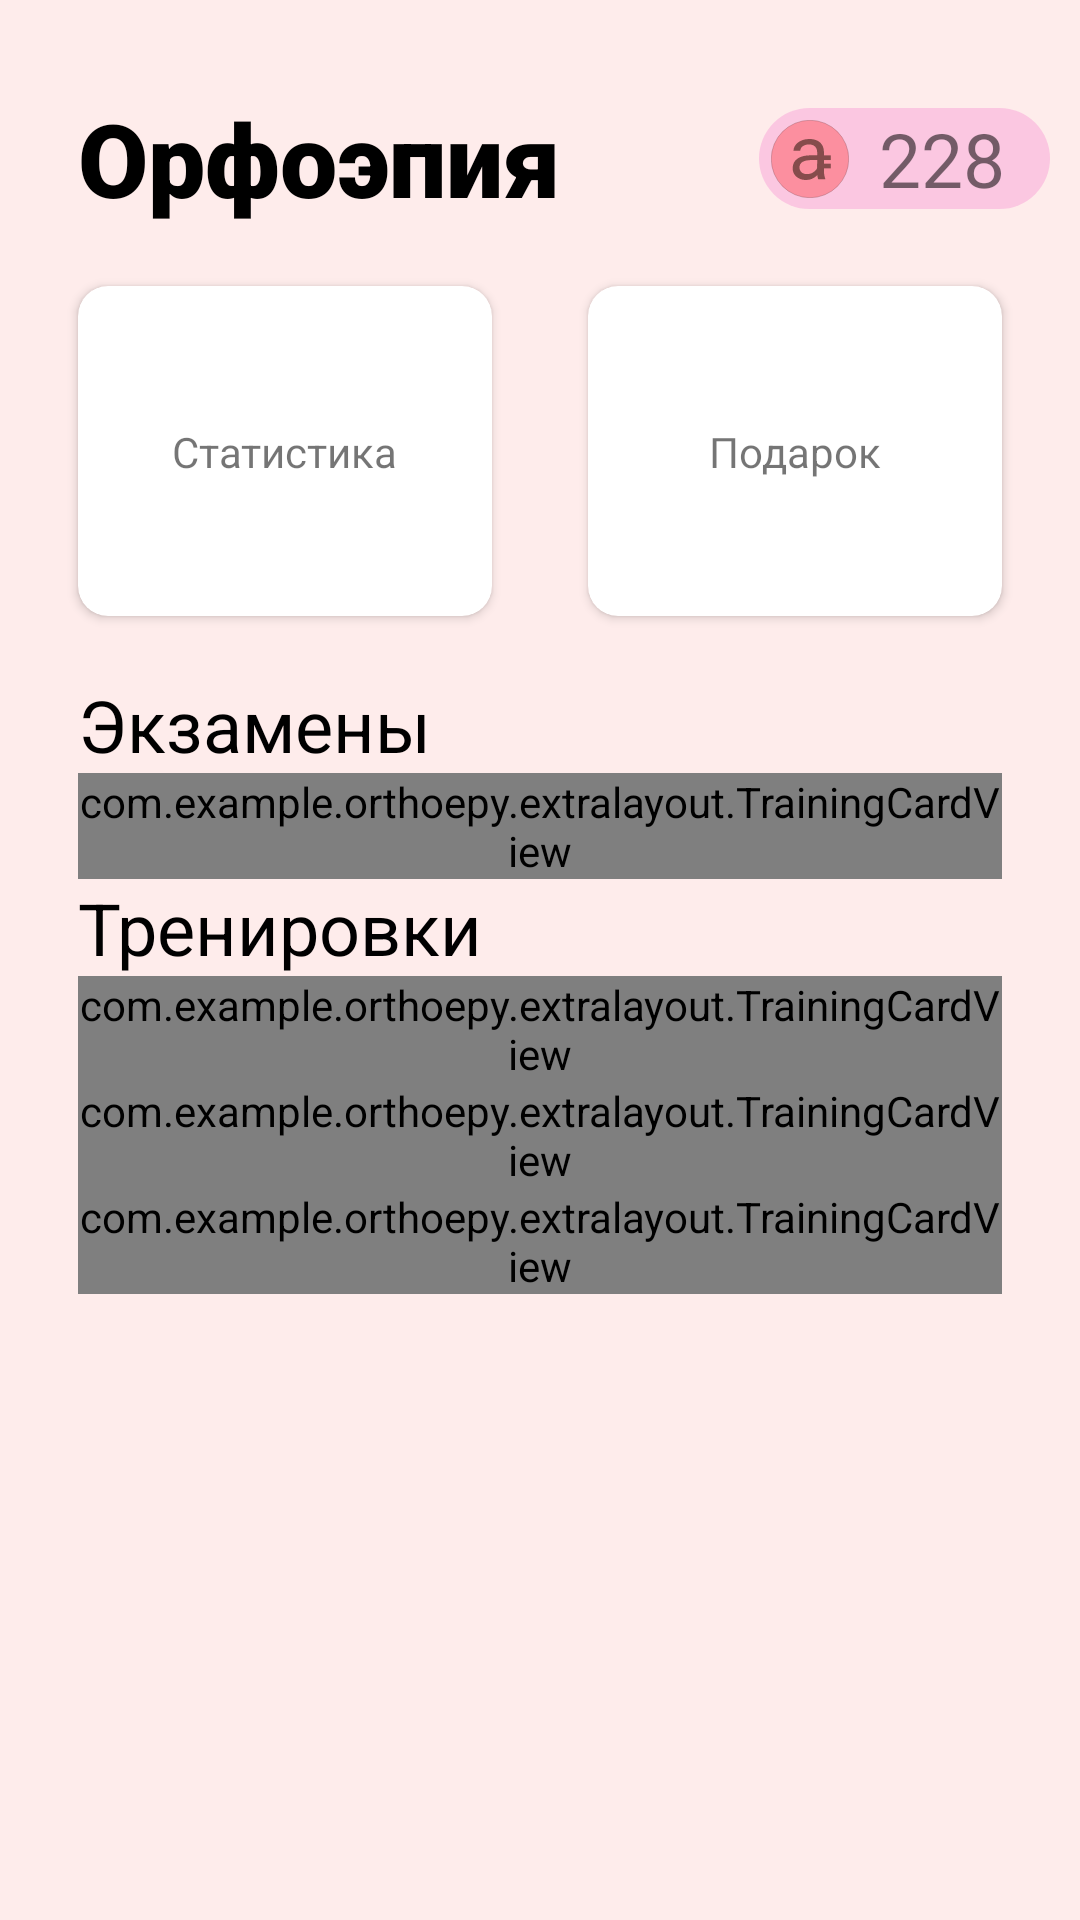

Point at icon controls on the screen. Image size 1080px×1920px, points as (x,y).
currency: (804,153)
